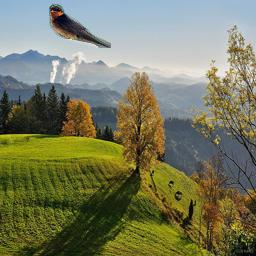Swallow: (49, 4, 111, 48)
